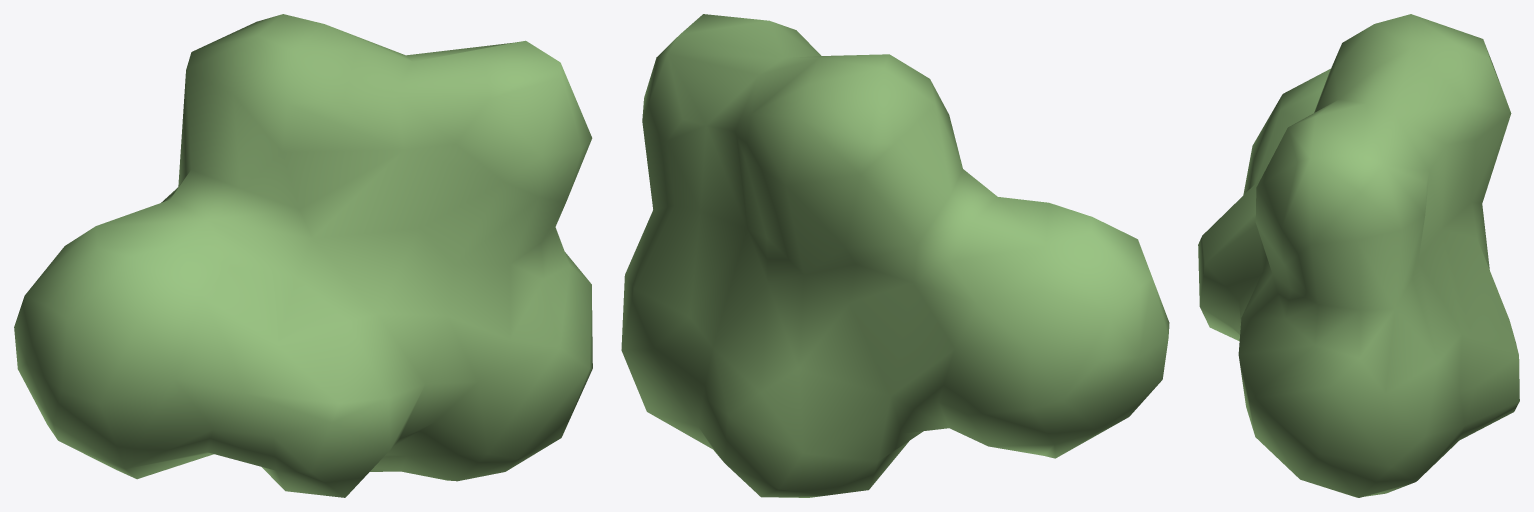
File: bush_small.glb
The picture shows the model from 3 angles, left to right: view 1: azimuth 30°, elevation 25°; view 2: azimuth 150°, elevation 25°; view 3: azimuth 270°, elevation 25°; orthographic projection. The views are drawn at different scales.
Visible parts, largest first — view 1: crown; view 2: crown; view 3: crown.
Part boxes in pixels (x1=…): crown: x1=14, y1=14, x2=592, y2=497; crown: x1=621, y1=14, x2=1169, y2=497; crown: x1=1198, y1=14, x2=1519, y2=497.
Size of the model in its own units: 0.9871 by 0.8025 by 0.5856.
